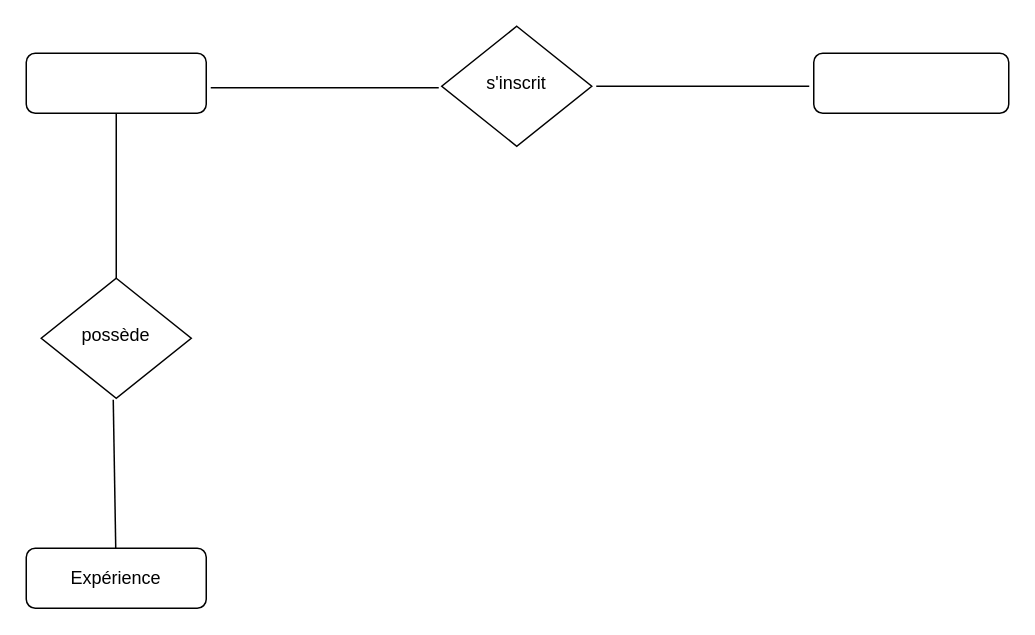
Some shapes in this 1035 by 635 pixel diagram are drawn without their labels. The shapes that lost their labels are listed below. From the top down, each one's centre as x and y in pixels, then its label:
At [115,82]: "Participant".
At [910,82]: "Peloton".
